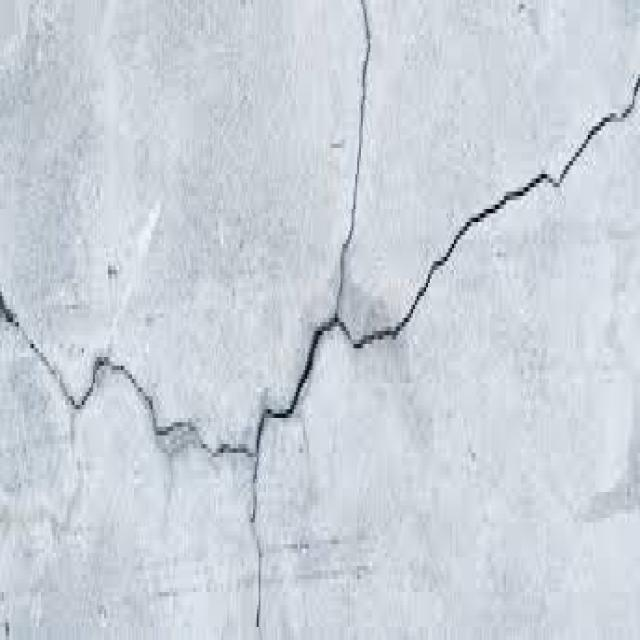crack: (0, 0, 639, 459)
